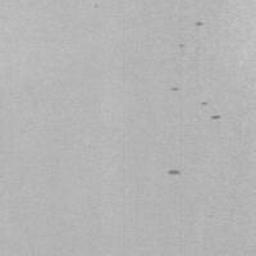Inclusion: (193, 20, 204, 27), (168, 169, 180, 175), (210, 114, 221, 120), (170, 87, 180, 92), (201, 101, 209, 106)
